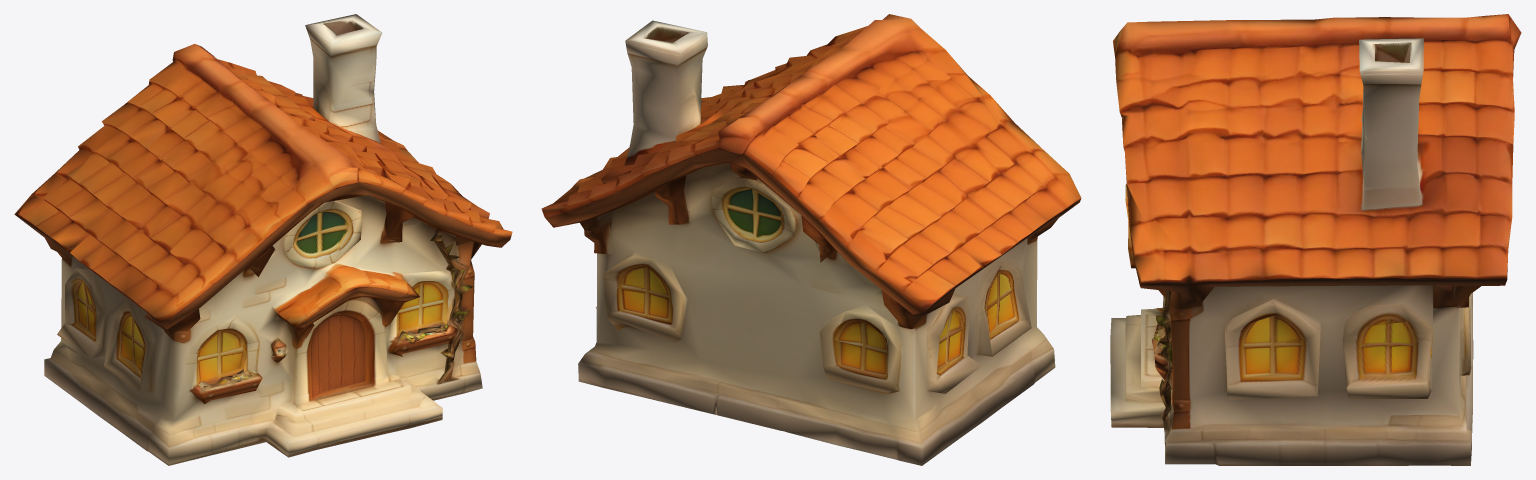
File: cottage-clay.glb
3 renders of one model, left to right at view 1: azimuth 30°, elevation 25°; view 2: azimuth 150°, elevation 25°; view 3: azimuth 270°, elevation 25°, orthographic. The views are drawn at different scales.
Visible parts, largest first — view 1: cottage-clay; view 2: cottage-clay; view 3: cottage-clay.
Boxes of the visible parts, box(x1,y1,x2,y2) form: cottage-clay: box(14, 14, 512, 465); cottage-clay: box(541, 14, 1081, 465); cottage-clay: box(1110, 14, 1521, 465).
Bounding box in the file's own units: 6.9 × 5.7 × 5.5.
Materials: 1 (1 with a texture image).
